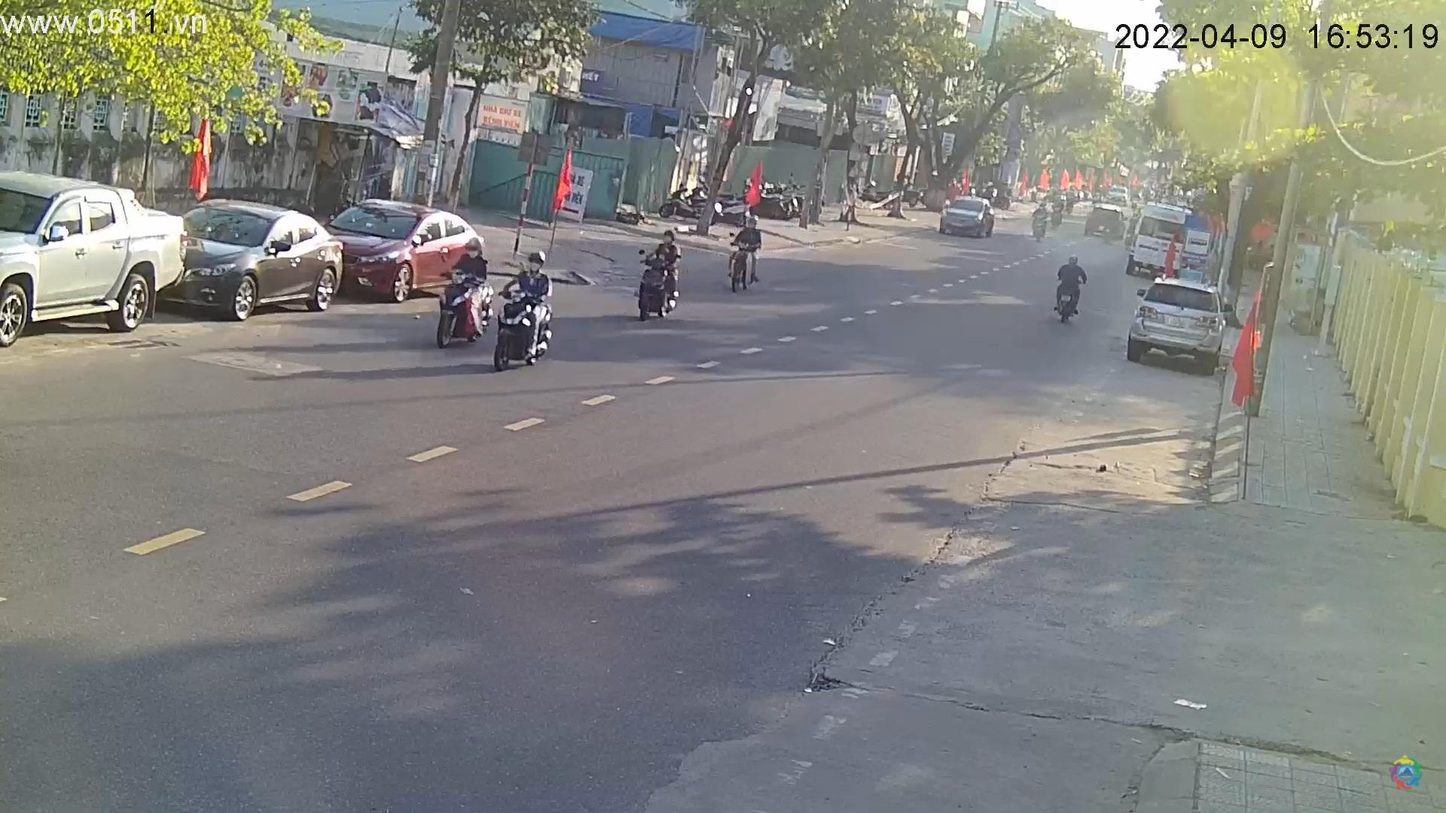car: (3, 175, 187, 354), (165, 202, 351, 322), (322, 198, 487, 305)
motorbike: (488, 277, 557, 374), (428, 257, 493, 349), (626, 239, 684, 320), (720, 227, 768, 296)
